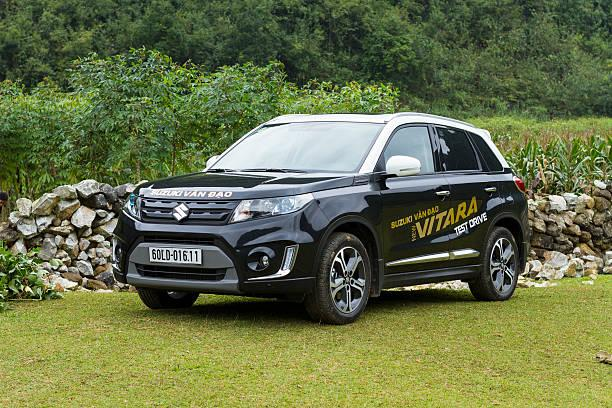suzuki: (168, 199, 192, 225)
